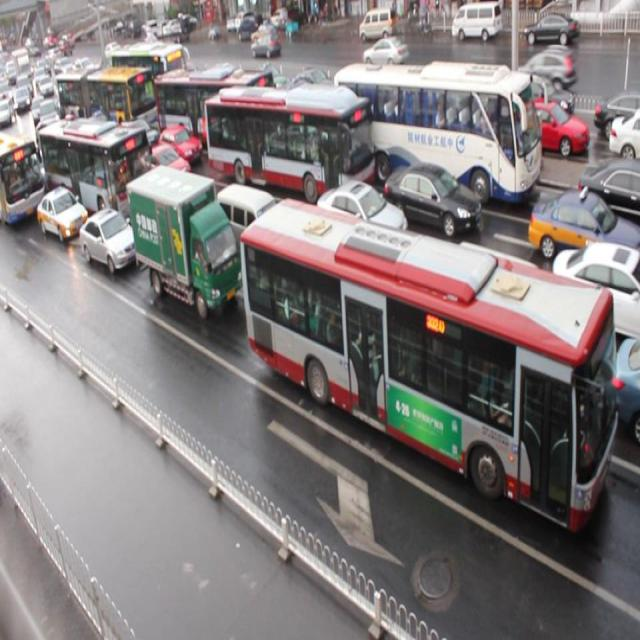bus: (127, 163, 239, 318)
car: (527, 191, 640, 278), (300, 228, 404, 321), (551, 243, 640, 341), (382, 162, 481, 238), (314, 178, 405, 249), (576, 160, 640, 238), (141, 185, 208, 250), (80, 206, 138, 272), (38, 181, 89, 240), (135, 138, 190, 190), (158, 124, 202, 169), (116, 123, 160, 164)
truck: (440, 240, 568, 386), (216, 186, 292, 276)
van: (243, 196, 612, 531), (334, 66, 541, 204), (206, 84, 375, 204), (38, 121, 156, 232), (154, 70, 274, 160), (58, 71, 158, 132), (1, 129, 46, 224)
